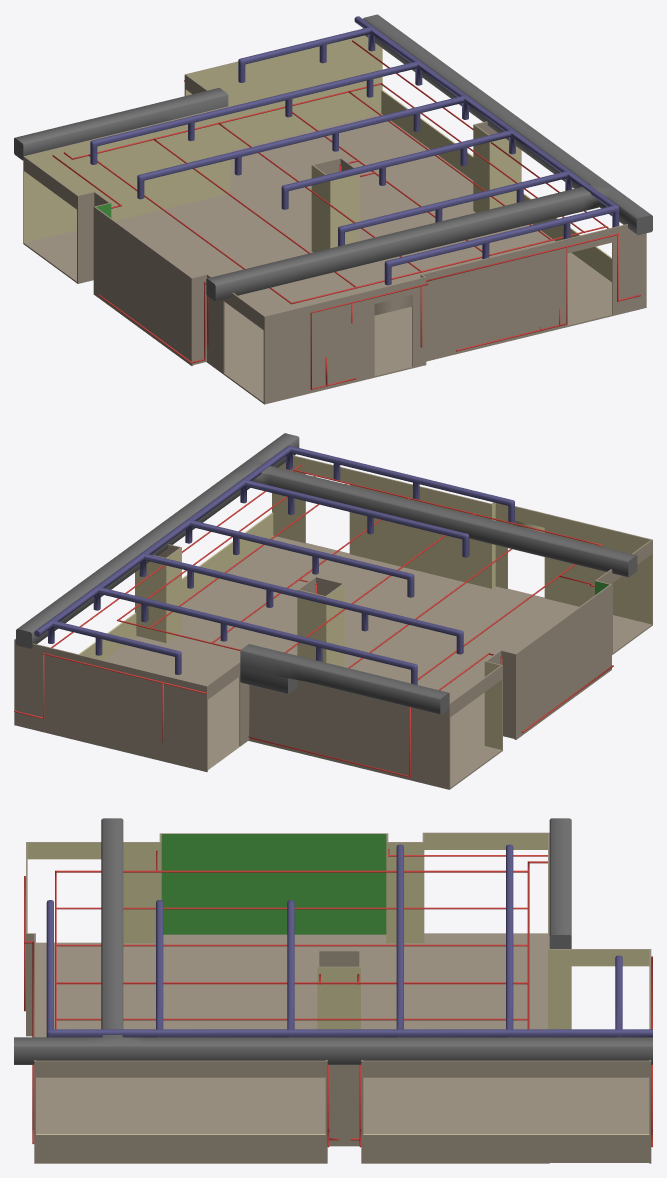
The model's file is bim2.fbx.
The picture shows the model from 3 angles, top to bottom: view 1: azimuth 30°, elevation 25°; view 2: azimuth 150°, elevation 25°; view 3: azimuth 270°, elevation 25°; orthographic projection. The views are drawn at different scales.
Parts seen in each view (by area): view 1: room, Ventilation, Water_pipes, Wiring; view 2: room, Ventilation, Water_pipes, Wiring; view 3: room, Ventilation, Water_pipes, Wiring.
Part boxes in pixels (x1=…): room: x1=23, y1=35, x2=646, y2=404; Ventilation: x1=14, y1=14, x2=652, y2=301; Water_pipes: x1=90, y1=16, x2=619, y2=285; Wiring: x1=52, y1=40, x2=640, y2=389; room: x1=14, y1=455, x2=652, y2=789; Ventilation: x1=16, y1=433, x2=637, y2=714; Water_pipes: x1=34, y1=445, x2=514, y2=684; Wiring: x1=14, y1=464, x2=613, y2=777; room: x1=26, y1=832, x2=651, y2=1163; Ventilation: x1=14, y1=818, x2=652, y2=1064; Water_pipes: x1=46, y1=844, x2=652, y2=1037; Wiring: x1=24, y1=849, x2=652, y2=1147.
Bounding box in the file's own units: 148600 × 36315 × 175350.
